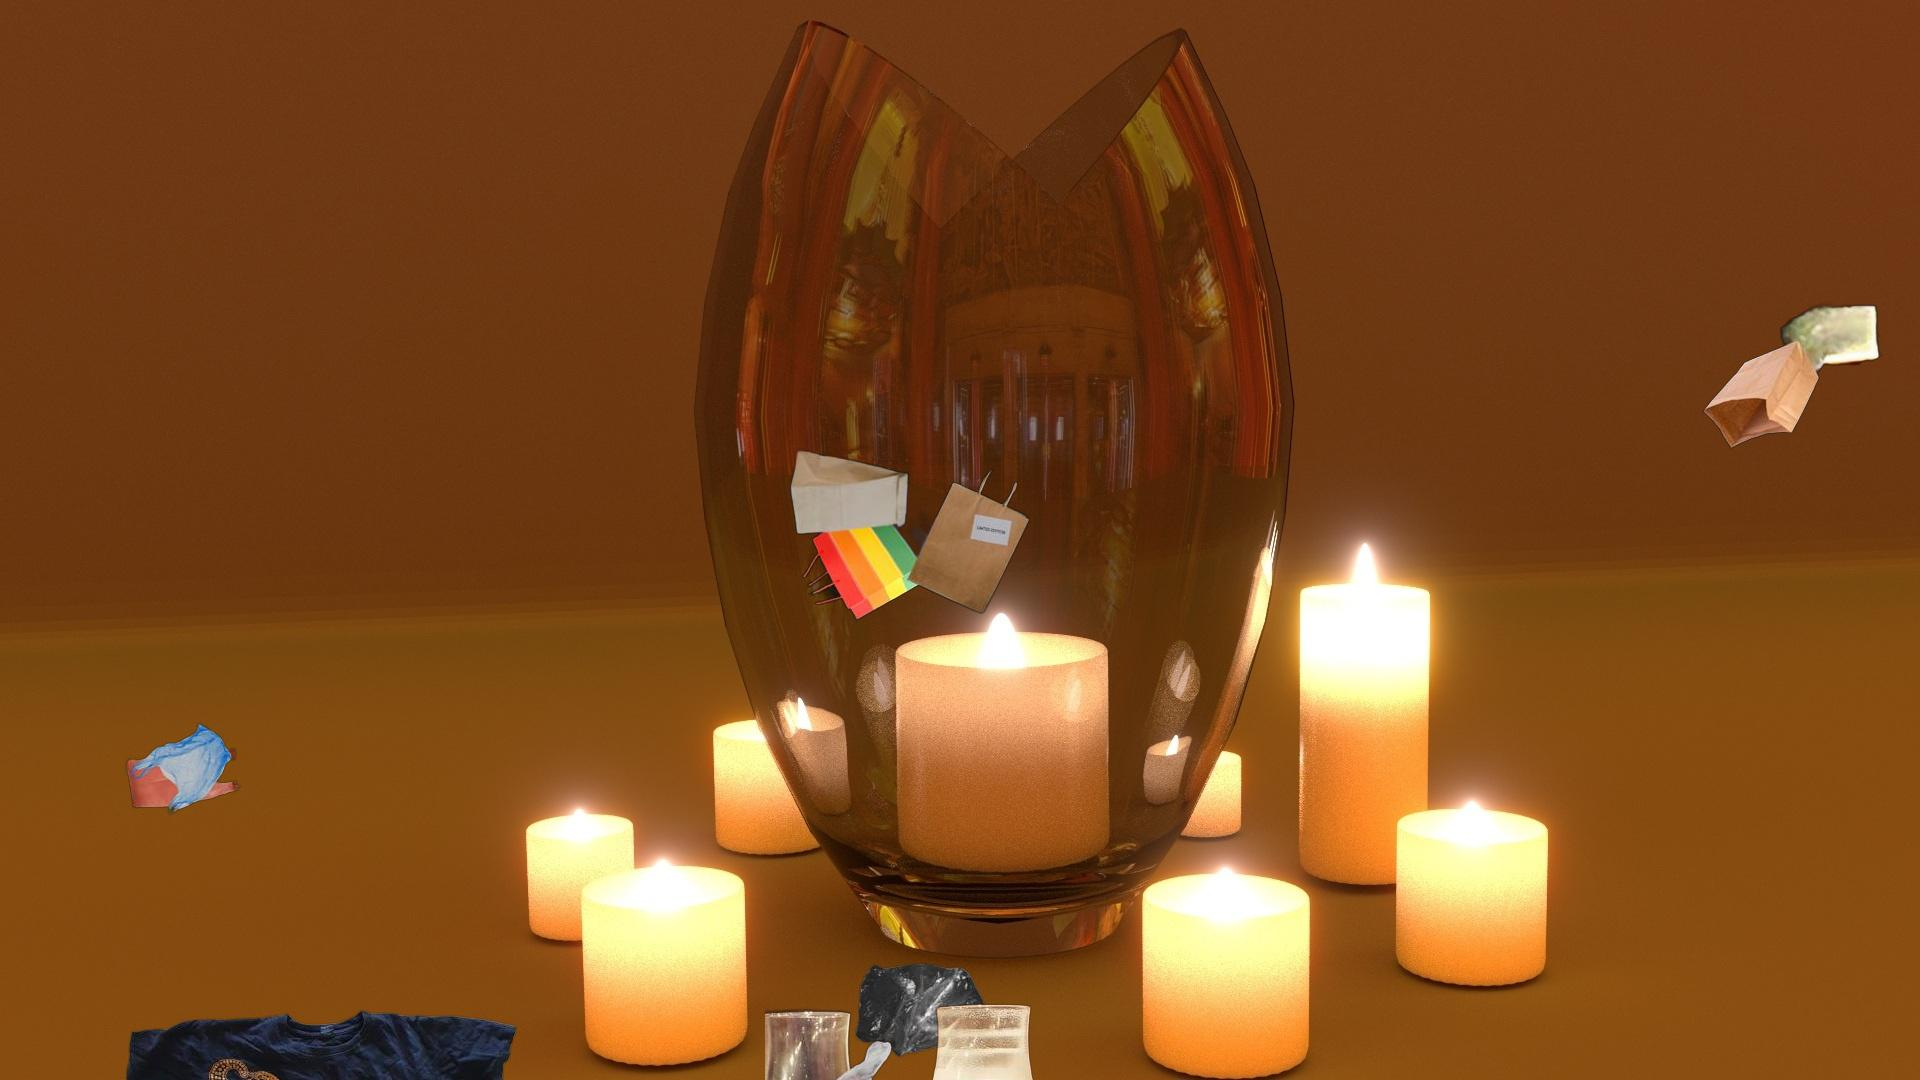clothes: (123, 1006, 520, 1080)
paper-bag: (789, 444, 1033, 621), (1700, 295, 1884, 451)
plastic-bag: (765, 1002, 1042, 1080), (852, 961, 996, 1059), (123, 723, 243, 822)
